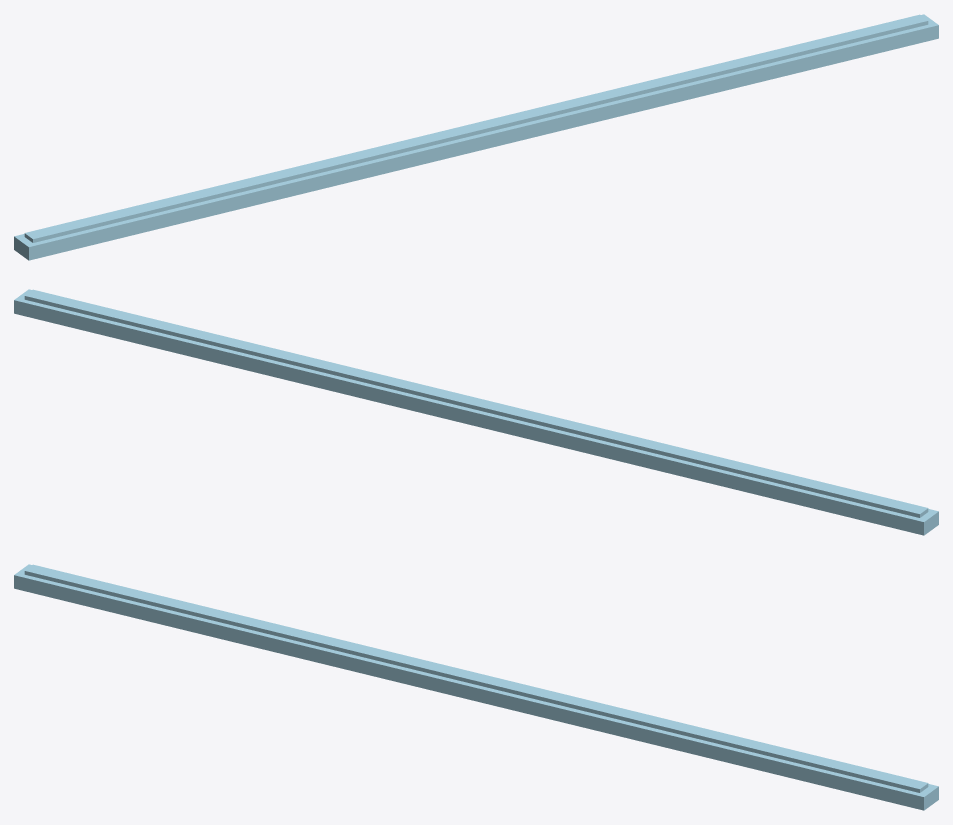
The model's file is SM_Int_Generationship_Hab_Lights.fbx.
The picture shows the model from 3 angles, top to bottom: view 1: azimuth 30°, elevation 25°; view 2: azimuth 150°, elevation 25°; view 3: azimuth 330°, elevation 25°; orthographic projection.
Parts seen in each view (by area): view 1: SM_Int_Generationship_Hab_Lights; view 2: SM_Int_Generationship_Hab_Lights; view 3: SM_Int_Generationship_Hab_Lights.
Boxes of the visible parts, x1,y1,x2,y2 form: SM_Int_Generationship_Hab_Lights: (14, 14, 938, 260); SM_Int_Generationship_Hab_Lights: (14, 289, 938, 535); SM_Int_Generationship_Hab_Lights: (14, 564, 938, 810).
Size of the model in its own units: 1139 by 32.2 by 20.7.
